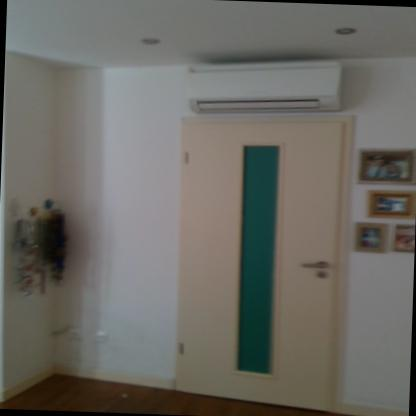closed: (167, 99, 369, 406)
